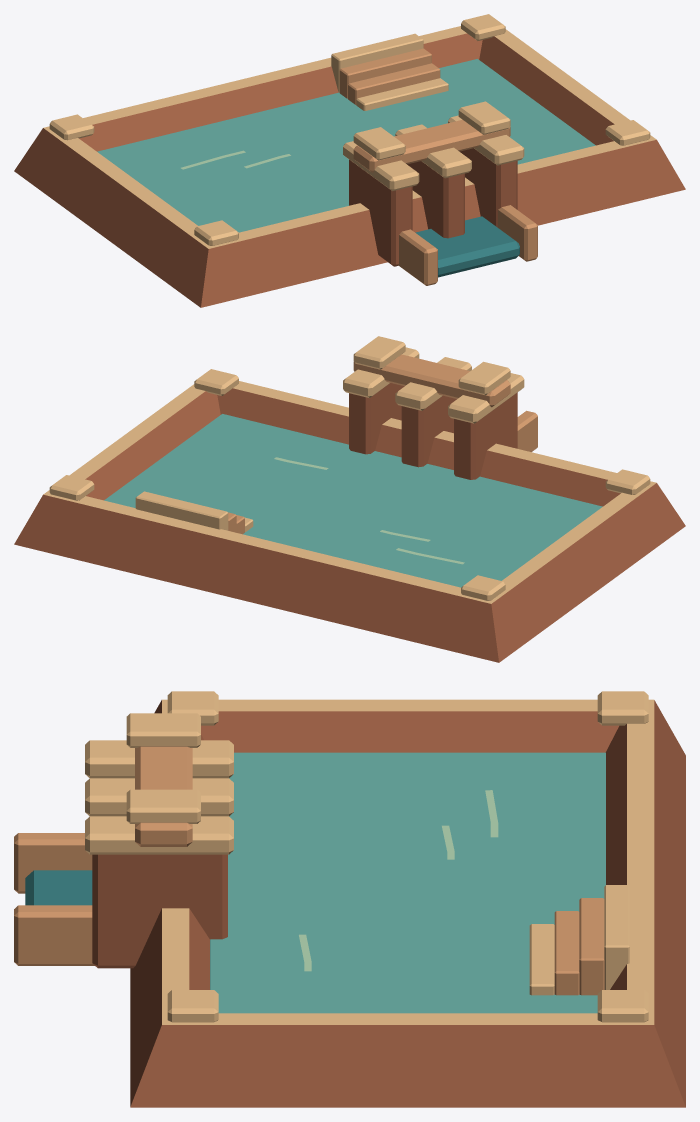
File: baray.glb
3 renders of one model, top to bottom at view 1: azimuth 30°, elevation 25°; view 2: azimuth 150°, elevation 25°; view 3: azimuth 270°, elevation 25°, orthographic. The views are drawn at different scales.
Visible parts, largest first — view 1: baray; view 2: baray; view 3: baray.
Part boxes in pixels (x1,y1,x2,y2): baray: (14, 14, 685, 307); baray: (14, 336, 685, 662); baray: (14, 691, 685, 1107).
Size of the model in its own units: 1.34 by 0.3035 by 1.08.
